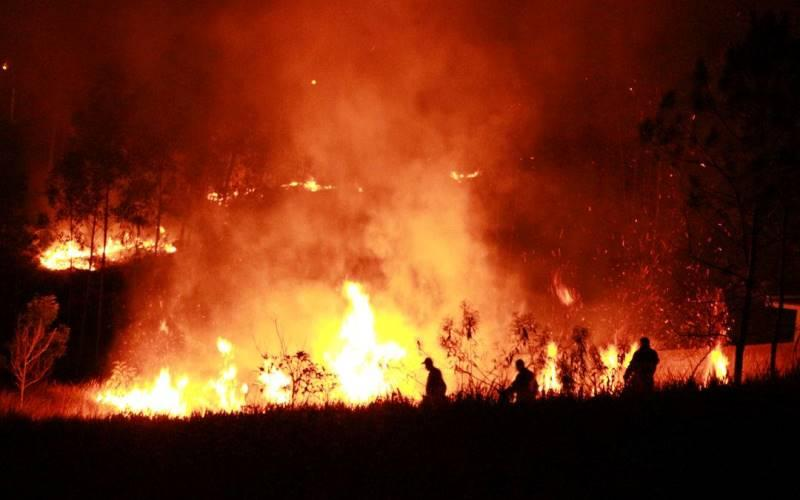fire: (324, 289, 394, 404), (100, 369, 208, 419)
smoke: (281, 26, 473, 204)
